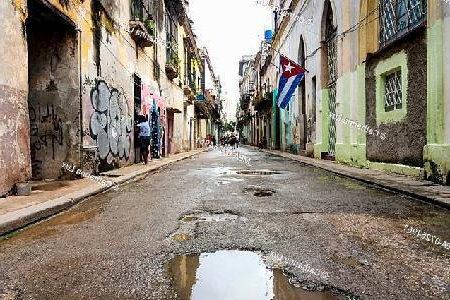pothole: (163, 243, 367, 296), (164, 205, 201, 242), (177, 205, 240, 222), (241, 184, 277, 197), (235, 168, 284, 176)
